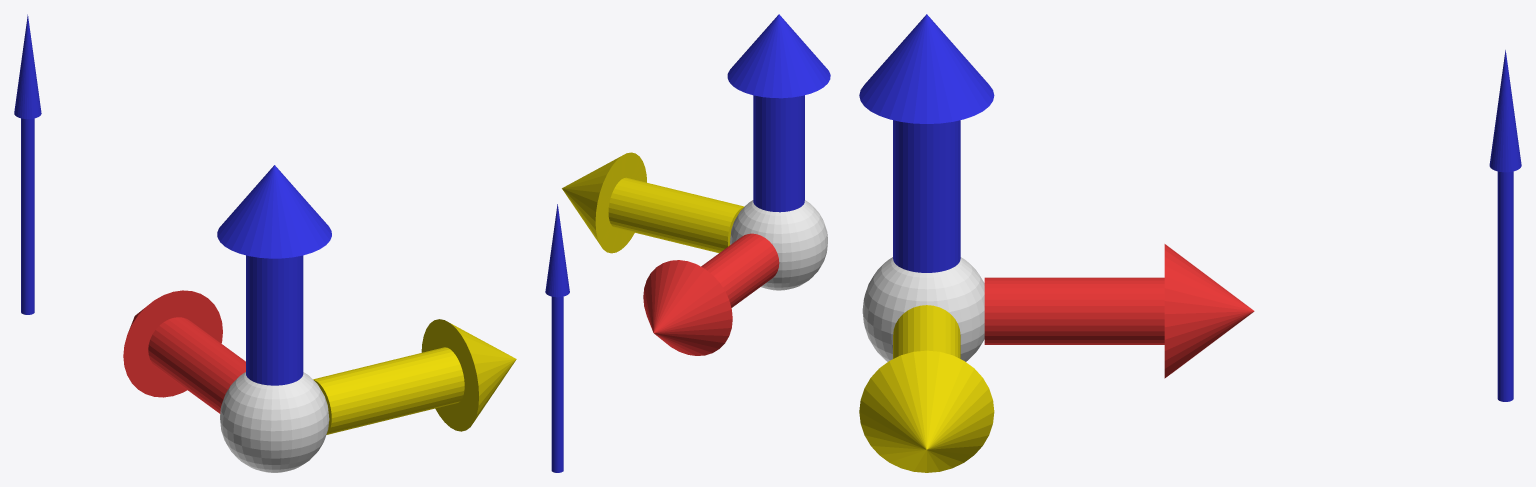
File: LorentzForceCharge.gltf
3 renders of one model, left to right at view 1: azimuth 30°, elevation 25°; view 2: azimuth 150°, elevation 25°; view 3: azimuth 270°, elevation 25°, orthographic. The views are drawn at different scales.
Visible parts, largest first — view 1: Arrow.004, Sphere, Arrow; view 2: Arrow.004, Sphere, Arrow; view 3: Arrow.004, Sphere, Arrow.
Part boxes in pixels (x1=…): Arrow.004: x1=123, y1=165, x2=516, y2=434; Sphere: x1=220, y1=372, x2=329, y2=472; Arrow: x1=14, y1=14, x2=41, y2=314; Arrow.004: x1=562, y1=14, x2=830, y2=355; Sphere: x1=730, y1=200, x2=827, y2=290; Arrow: x1=545, y1=204, x2=569, y2=472; Arrow.004: x1=859, y1=14, x2=1254, y2=472; Sphere: x1=862, y1=257, x2=984, y2=361; Arrow: x1=1489, y1=50, x2=1521, y2=401.
Bounding box in the file's own units: 2.46 × 2.64 × 4.12.
